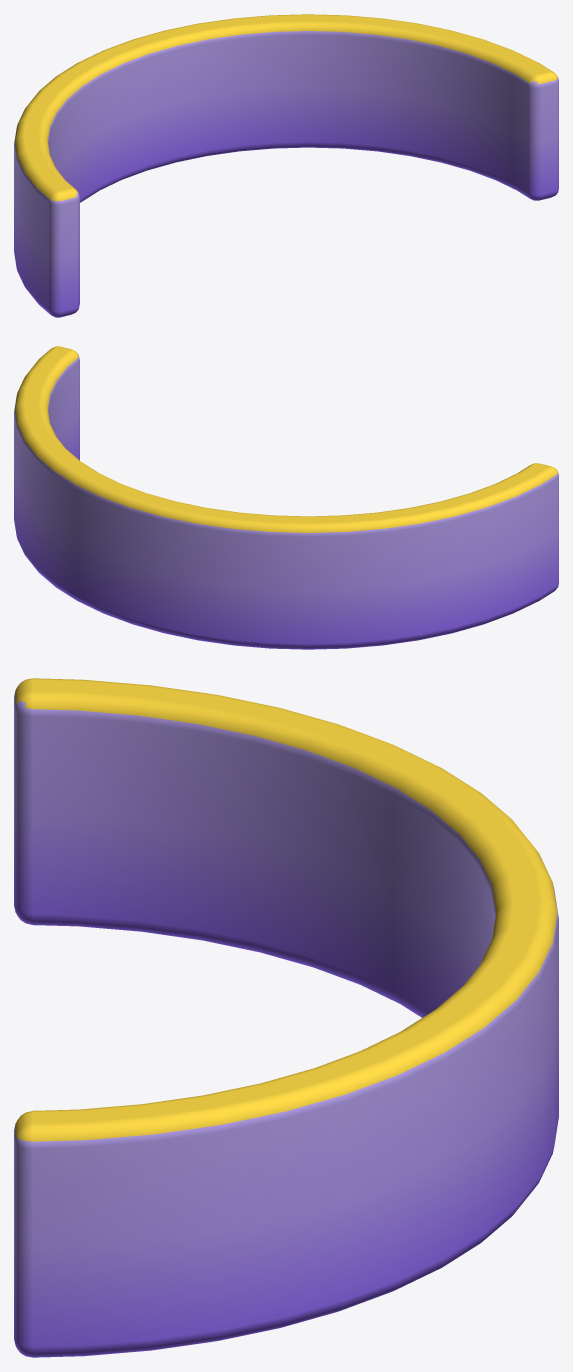
The model's file is curved_wall_r4_180deg_h2.glb.
The picture shows the model from 3 angles, top to bottom: view 1: azimuth 30°, elevation 25°; view 2: azimuth 150°, elevation 25°; view 3: azimuth 270°, elevation 25°; orthographic projection. The views are drawn at different scales.
Parts seen in each view (by area): view 1: curved_wall_r4_180deg_h2; view 2: curved_wall_r4_180deg_h2; view 3: curved_wall_r4_180deg_h2.
Part boxes in pixels (x1=…): curved_wall_r4_180deg_h2: x1=14, y1=14, x2=558, y2=317; curved_wall_r4_180deg_h2: x1=14, y1=346, x2=558, y2=649; curved_wall_r4_180deg_h2: x1=14, y1=678, x2=558, y2=1357.
Bounding box in the file's own units: 8.48 × 2 × 4.25.
Materials: 1 (1 with a texture image).
